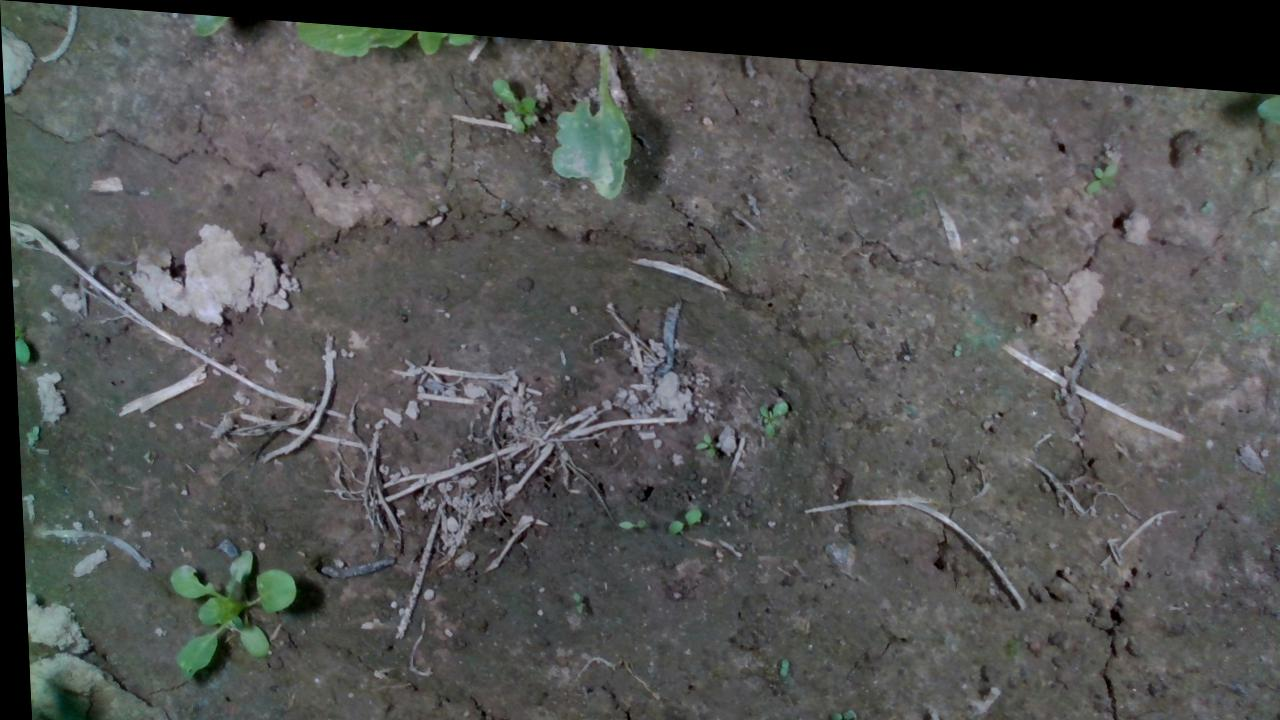weed: (1079, 141, 1117, 178), (660, 494, 698, 525), (1006, 700, 1062, 719), (752, 391, 779, 427), (687, 418, 717, 444), (610, 505, 644, 522)
